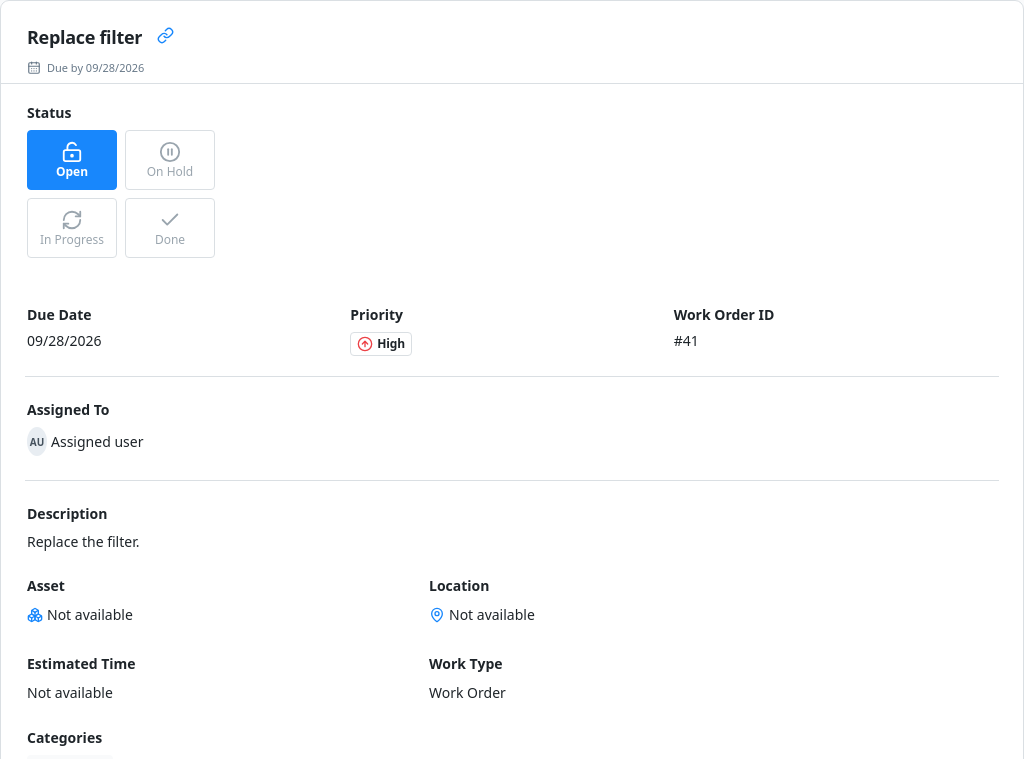
Scenario: WorkOrderDetail authorization › shows an error toast when copying the Work Order URL fails
What coordinates should you click on to do the following:
click the button named "Copy Work Order link"
I would click on:
 (166, 38)
Its box is [150, 22, 181, 53].
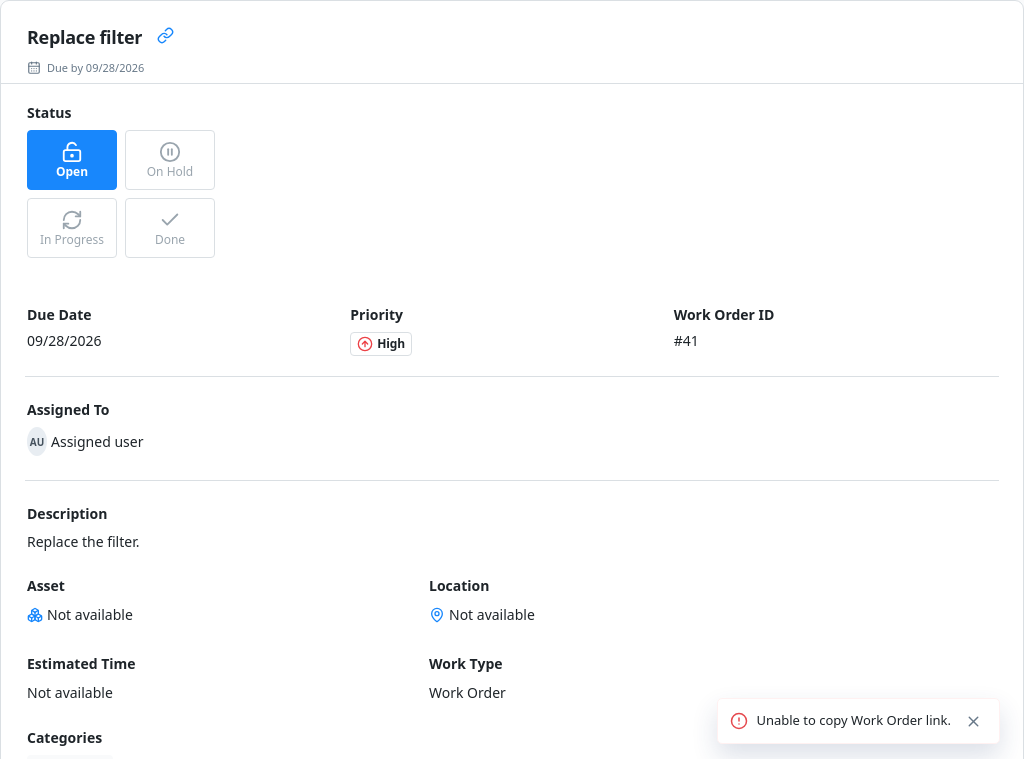
Result: the message reads "Unable to copy Work Order link." at [756, 711, 951, 729]
